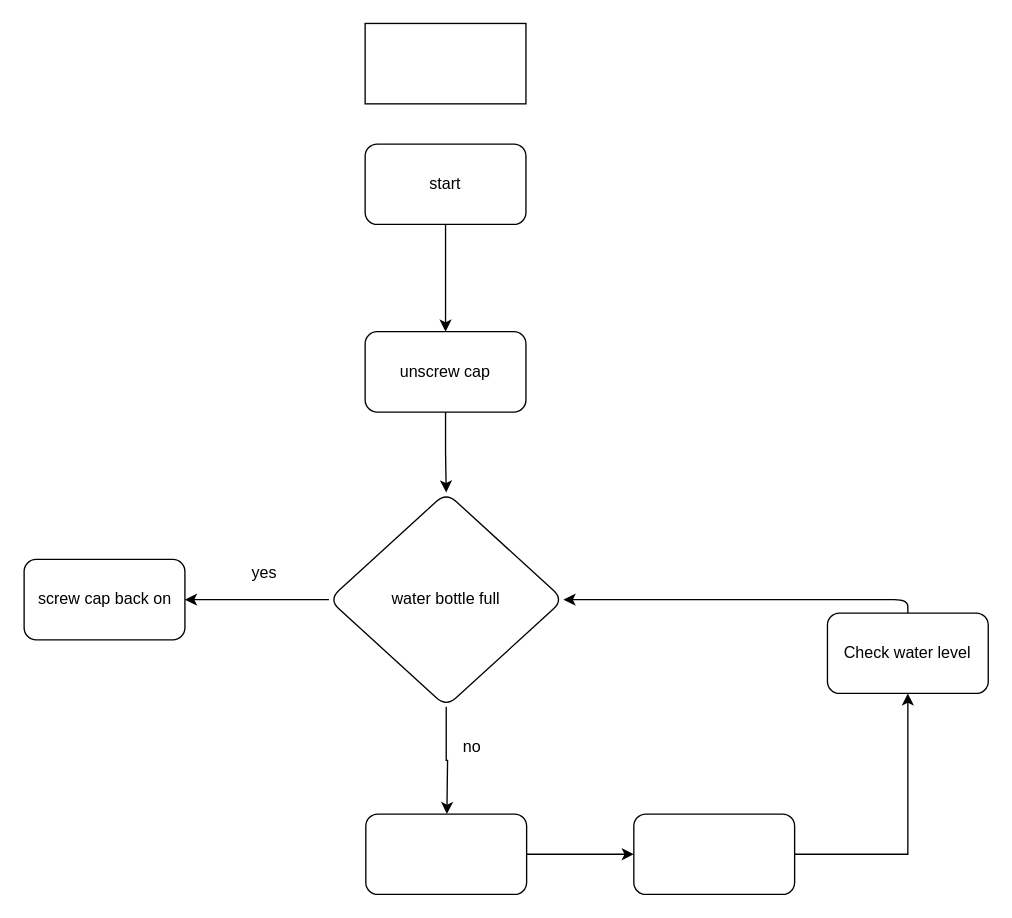
Image size: 1012x918. Some labels were removed from this diagram. The centre of each missing label's shape, as x and y in pixels:
"fill water bottle" belongs at point 445,63.
"place bottle under sink" belongs at point 445,853.
"run water into bottle" belongs at point 713,853.
